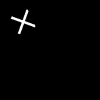single_crochet: (11, 10, 34, 33)
